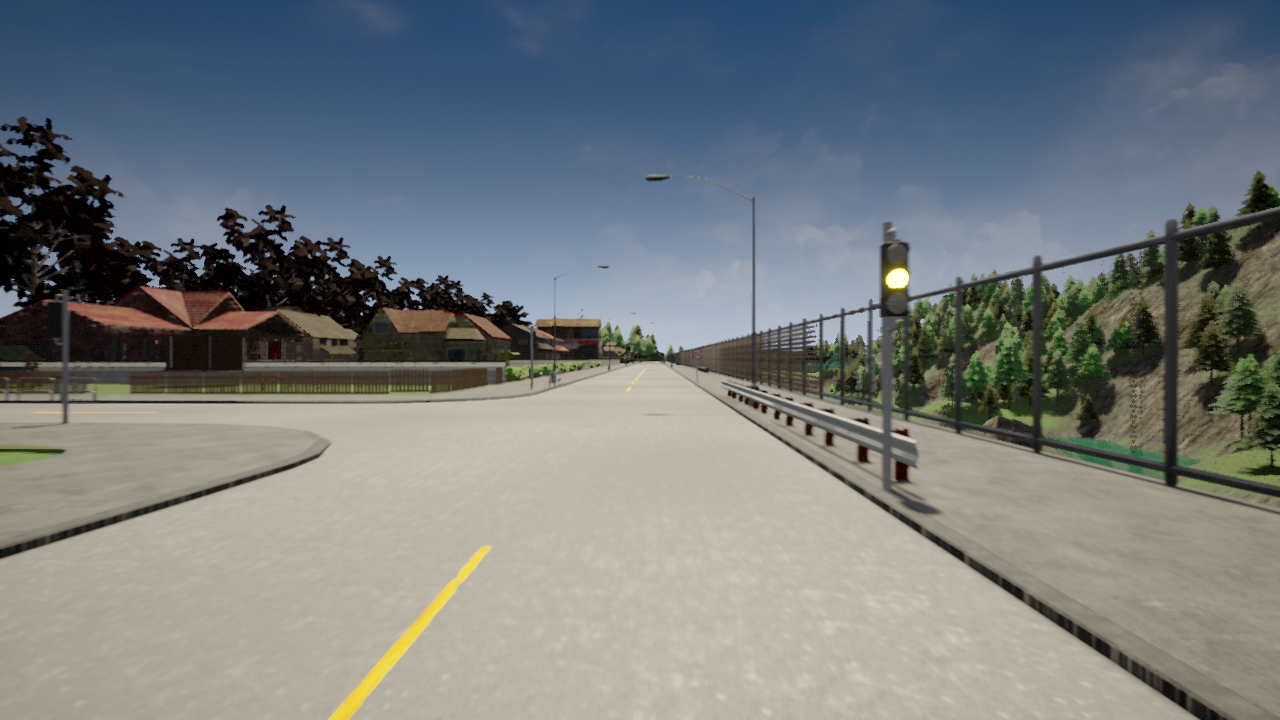yellow: (877, 240, 913, 317)
